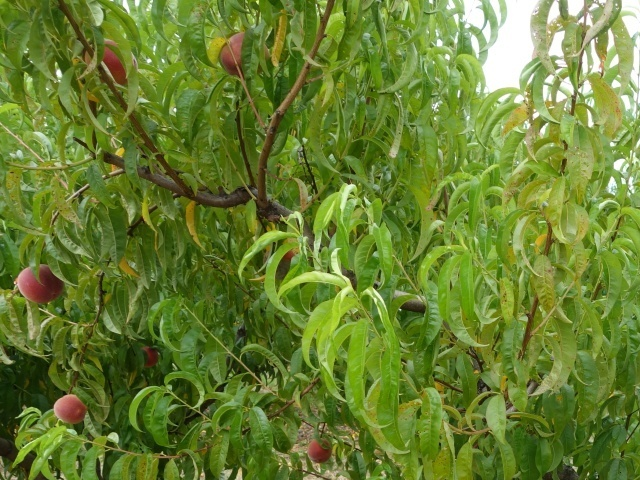peach: (88, 31, 144, 98), (213, 27, 262, 80), (13, 261, 65, 307), (50, 391, 91, 428), (304, 434, 335, 468), (137, 343, 161, 370)
